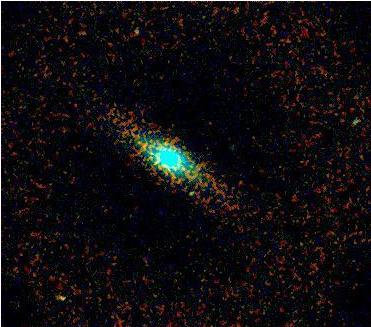star: (168, 178, 198, 208)
